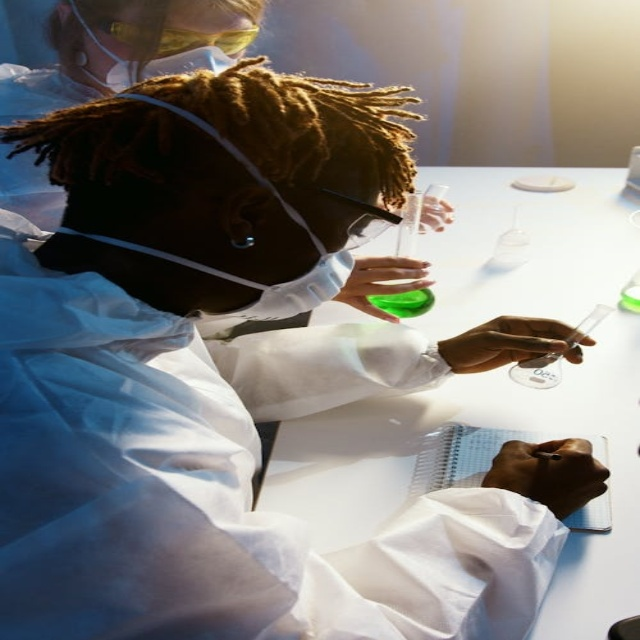Gafas: (265, 168, 407, 246), (88, 9, 270, 61)
Mascara: (155, 245, 367, 328), (67, 45, 255, 96)
Sin_guantes: (481, 437, 610, 521), (436, 314, 597, 375), (330, 255, 438, 323), (413, 194, 455, 233)
